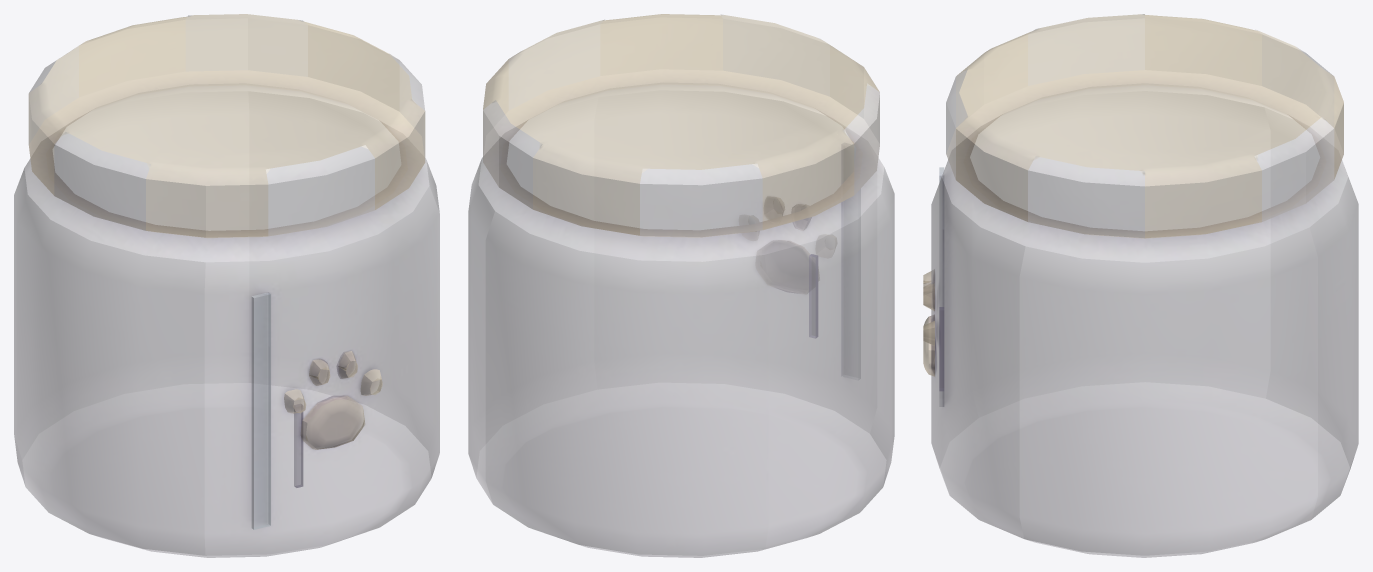
The model's file is kavanozB.glb.
3 renders of one model, left to right at view 1: azimuth 30°, elevation 25°; view 2: azimuth 150°, elevation 25°; view 3: azimuth 270°, elevation 25°, orthographic.
Parts seen in each view (by area): view 1: kavanozB; view 2: kavanozB; view 3: kavanozB.
Boxes of the visible parts, <box> form: kavanozB: <box>14,14,439,557</box>; kavanozB: <box>468,14,894,557</box>; kavanozB: <box>923,14,1358,557</box>.
Bounding box in the file's own units: 3.06 × 3.09 × 3.12.
1 material, 1 textured.
